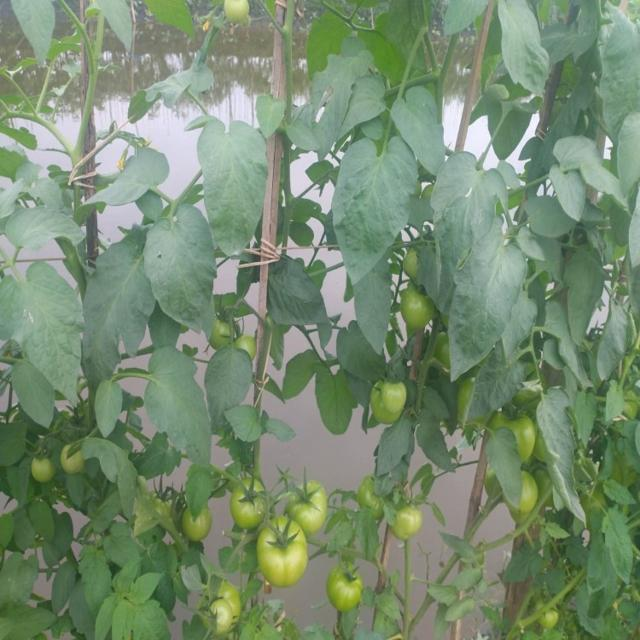tomato: (259, 522, 315, 584), (286, 472, 332, 531), (231, 478, 270, 531), (372, 380, 408, 427), (330, 568, 366, 614), (404, 286, 436, 334), (515, 409, 538, 465), (219, 586, 247, 630), (519, 471, 543, 520), (391, 505, 427, 536), (186, 511, 218, 545), (30, 455, 58, 485), (216, 319, 242, 351), (361, 478, 382, 511), (223, 1, 251, 25), (61, 448, 84, 472), (402, 246, 421, 275), (241, 332, 260, 356), (542, 607, 558, 632)
